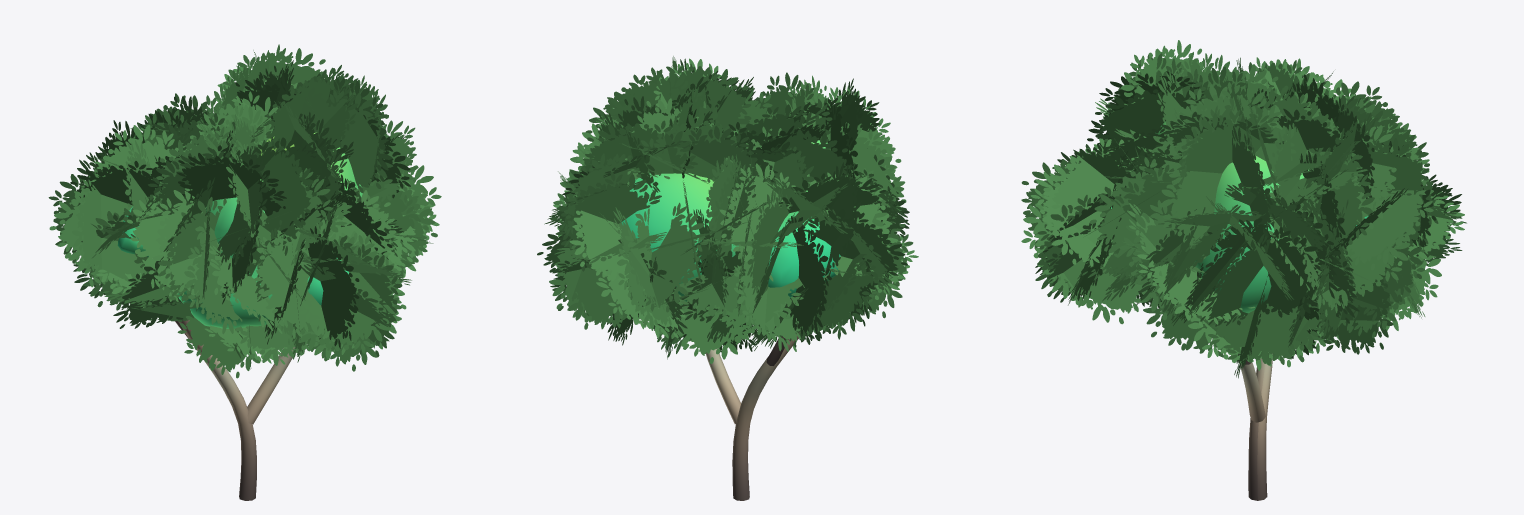
The model's file is Tree1.fbx.
3 views of the same model, side by side, from view 1: azimuth 30°, elevation 25°; view 2: azimuth 150°, elevation 25°; view 3: azimuth 270°, elevation 25° (orthographic). The views are drawn at different scales.
Parts seen in each view (by area): view 1: Tree; view 2: Tree; view 3: Tree.
Boxes of the visible parts, x1=… form: Tree: x1=48, y1=44, x2=441, y2=500; Tree: x1=537, y1=56, x2=918, y2=500; Tree: x1=1021, y1=40, x2=1466, y2=500.
Size of the model in its own units: 348 by 372 by 377.
